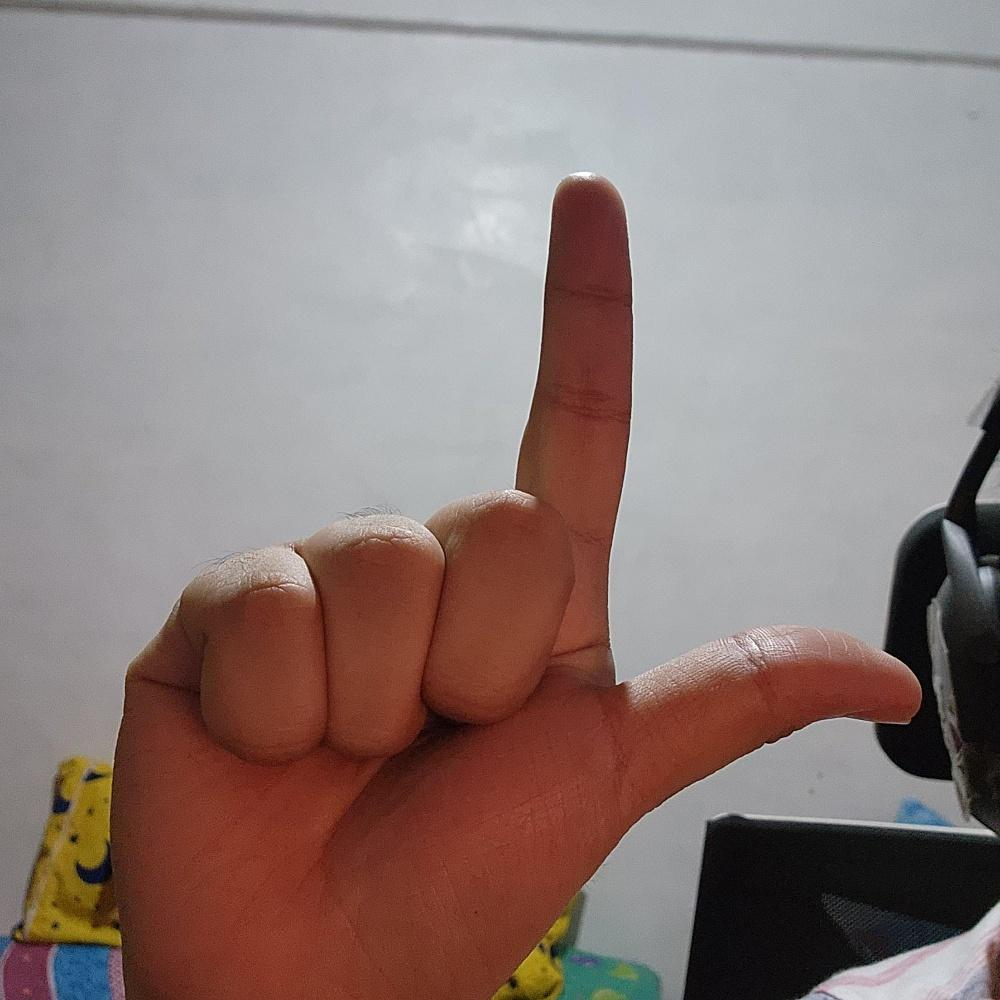l: (108, 168, 923, 999)
